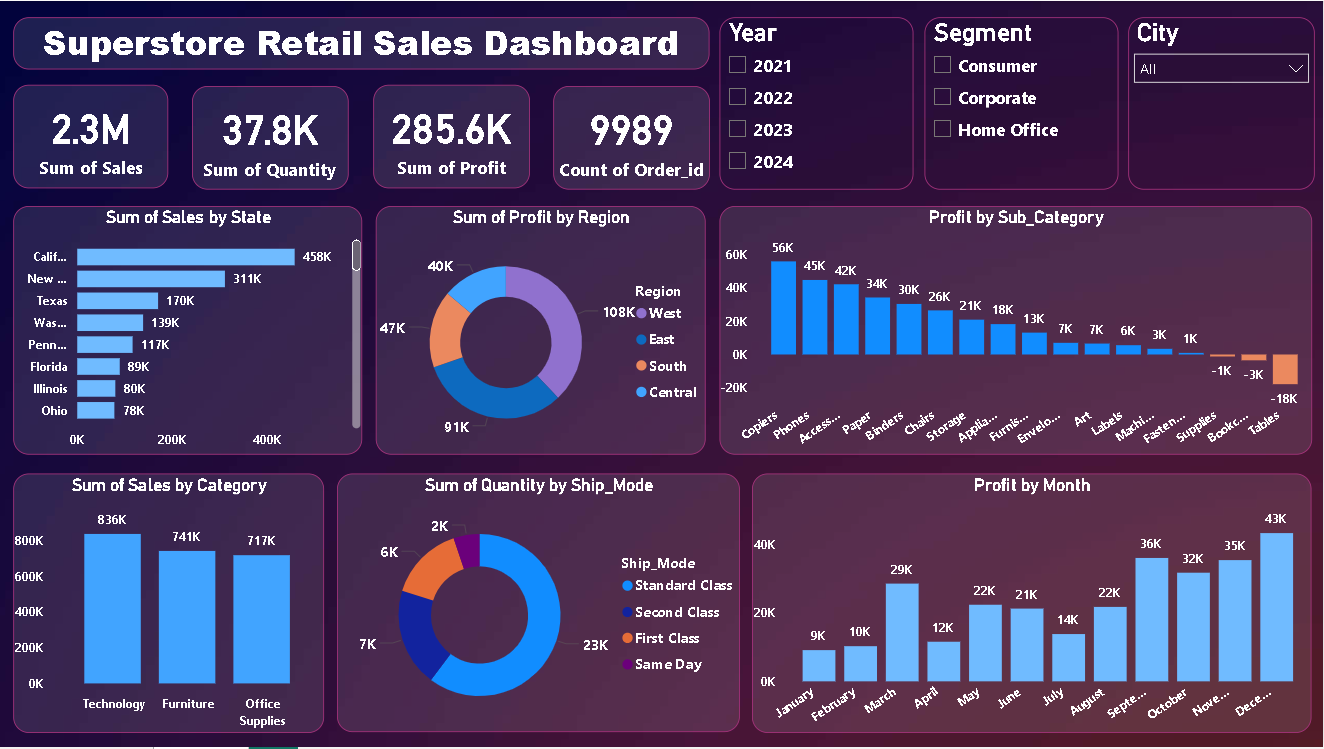

Layout of this report page (visuals, bound fields, positions):
{"tool":"powerbi","page":{"name":"Page 1","canvas":[1280,720],"ordinal":0},"visuals":[{"type":"textbox","box":[15.7,15.7,672,50.7],"z":0},{"type":"card","fields":{"Values":["Sum(superstore (2).Sales)"]},"box":[15.7,80.8,149.6,100.1],"z":1000},{"type":"clusteredBarChart","fields":{"Y":["Sum(superstore.Sales)"],"Category":["superstore.State"]},"box":[15.7,197.9,336.6,240.1],"z":2000},{"type":"card","fields":{"Values":["Sum(superstore (2).Quantity)"]},"box":[188.6,81.6,150.8,100.1],"z":3000},{"type":"card","fields":{"Values":["Sum(superstore (2).Profit)"]},"box":[362.7,81.2,150.8,100.1],"z":4000},{"type":"card","fields":{"Values":["CountNonNull(superstore (2).Order_id)"]},"box":[536.9,82,150.8,100.1],"z":5000},{"type":"donutChart","fields":{"Category":["superstore.Region"],"Y":["Sum(superstore.Profit)"]},"box":[365.6,197.9,318.5,240.1],"z":6000},{"type":"clusteredColumnChart","fields":{"Category":["superstore.Category"],"Y":["Sum(superstore.Sales)"]},"box":[15.7,456,300,250],"z":7000},{"type":"donutChart","fields":{"Y":["Sum(superstore.Quantity)"],"Category":["superstore.Ship_Mode"]},"box":[327.9,456,388.5,249.7],"z":8000},{"type":"clusteredColumnChart","title":"Profit by Month","fields":{"Y":["Sum(superstore.Profit)"],"Category":["superstore.Order_Date.Variation.Date Hierarchy.Month"]},"box":[728.7,456,540,250],"z":9000},{"type":"clusteredColumnChart","title":"Profit by Sub_Category","fields":{"Category":["superstore.Sub_Category"],"Y":["Sum(superstore.Profit)"]},"box":[697.3,197.9,571.9,240.1],"z":10000},{"type":"slicer","fields":{"Values":["superstore.Order_Date.Variation.Date Hierarchy.Year"]},"box":[697.3,15.7,187,166.5],"z":11000},{"type":"slicer","fields":{"Values":["superstore.Segment"]},"box":[894.6,15.7,187,166.5],"z":12000},{"type":"slicer","fields":{"Values":["superstore.City"]},"box":[1091.8,15.7,180,166],"z":13000}]}

Visuals, with their boxes in screenshot pixels (x1, y1, x2, y2), scaled from the page's 1280x720 canvas onto the 1324x749 screenshot:
textbox: box=[16, 16, 711, 69]
card - Sum(superstore (2).Sales): box=[16, 84, 171, 188]
clusteredBarChart - Sum(superstore.Sales) x superstore.State: box=[16, 206, 364, 456]
card - Sum(superstore (2).Quantity): box=[195, 85, 351, 189]
card - Sum(superstore (2).Profit): box=[375, 84, 531, 189]
card - CountNonNull(superstore (2).Order_id): box=[555, 85, 711, 189]
donutChart - superstore.Region x Sum(superstore.Profit): box=[378, 206, 708, 456]
clusteredColumnChart - superstore.Category x Sum(superstore.Sales): box=[16, 474, 327, 734]
donutChart - Sum(superstore.Quantity) x superstore.Ship_Mode: box=[339, 474, 741, 734]
"Profit by Month" clusteredColumnChart: box=[754, 474, 1312, 734]
"Profit by Sub_Category" clusteredColumnChart: box=[721, 206, 1313, 456]
slicer - superstore.Order_Date.Variation.Date Hierarchy.Year: box=[721, 16, 915, 190]
slicer - superstore.Segment: box=[925, 16, 1119, 190]
slicer - superstore.City: box=[1129, 16, 1316, 189]
